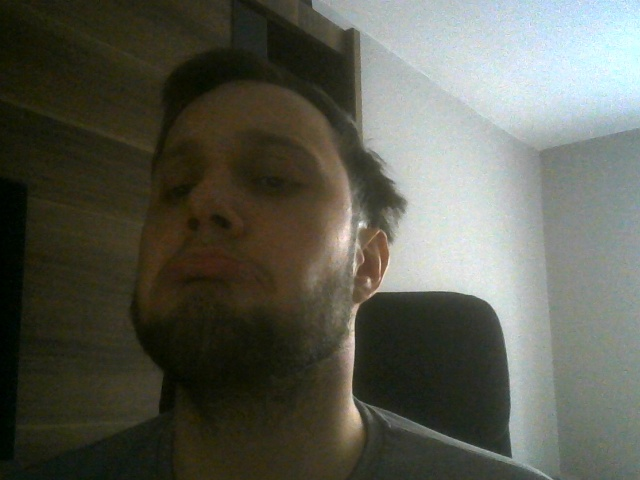neutral: (134, 49, 390, 385)
